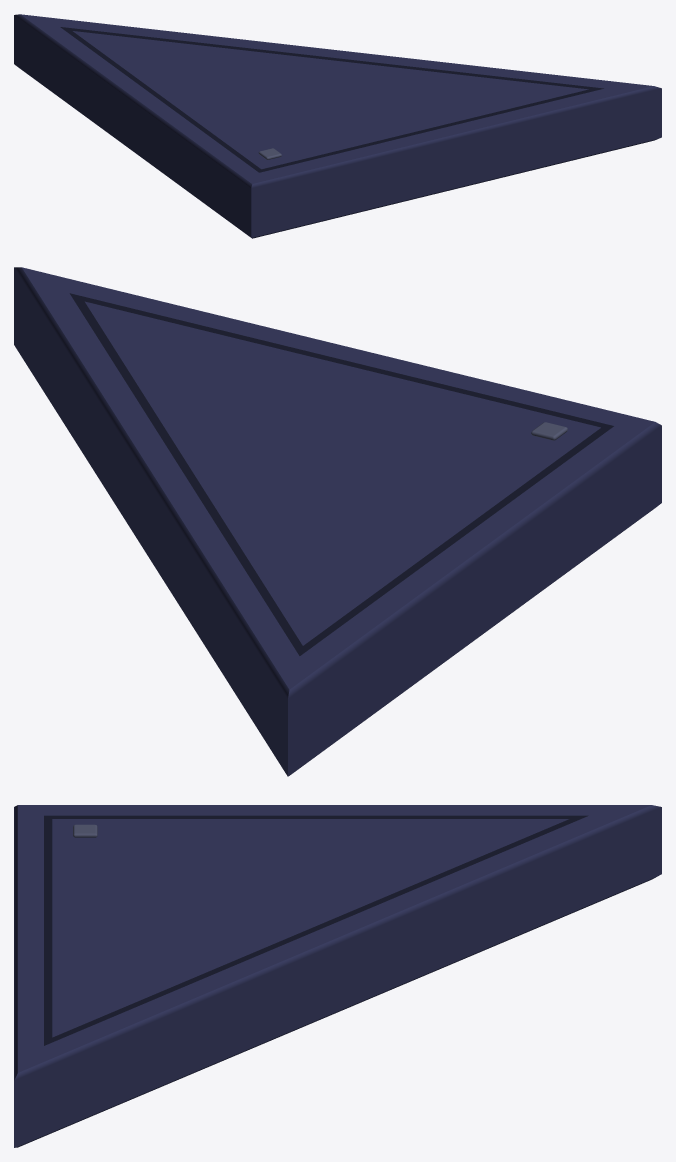
File: roof.skin.slope1.glb
3 views of the same model, one above another, from view 1: azimuth 30°, elevation 25°; view 2: azimuth 150°, elevation 25°; view 3: azimuth 270°, elevation 25° (orthographic). The views are drawn at different scales.
Parts seen in each view (by area): view 1: roof.skin.slope1; view 2: roof.skin.slope1; view 3: roof.skin.slope1.
Boxes of the visible parts, left/top/right/bottom form: roof.skin.slope1: left=14, top=14, right=661, bottom=238; roof.skin.slope1: left=14, top=267, right=661, bottom=776; roof.skin.slope1: left=14, top=805, right=661, bottom=1147.
Bounding box in the file's own units: 0.9454 × 0.127 × 0.9454.
